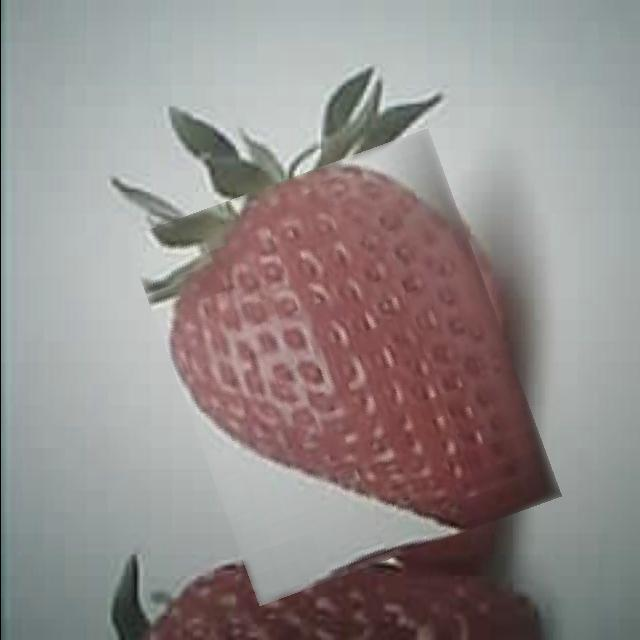strawberry: (153, 150, 533, 585)
